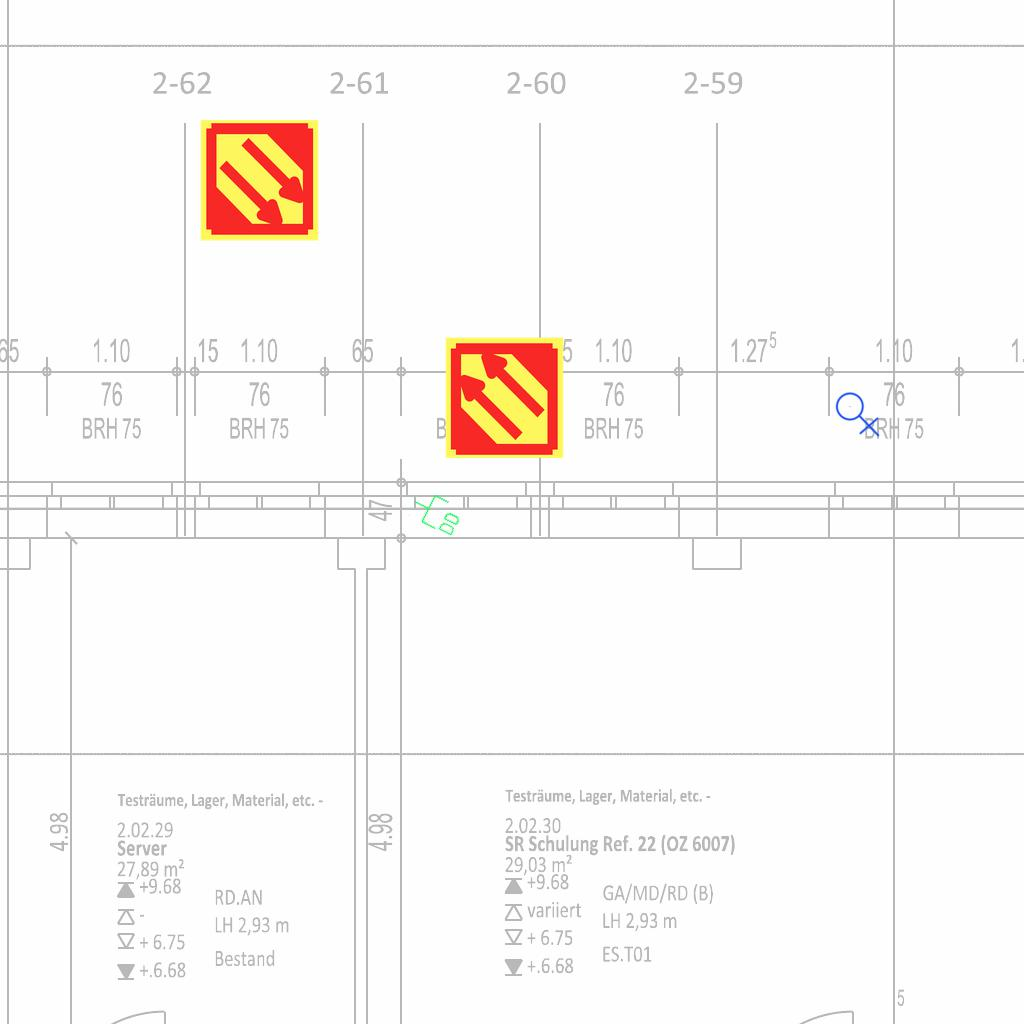ASR_Ansaugrauchmelder: (442, 335, 567, 460), (197, 118, 322, 243)
Datenanschluss_zweifach: (406, 486, 467, 540)
Elektroanschluss_allgemein_230V_Geraeteanschlussdose_230V: (835, 388, 882, 437)
